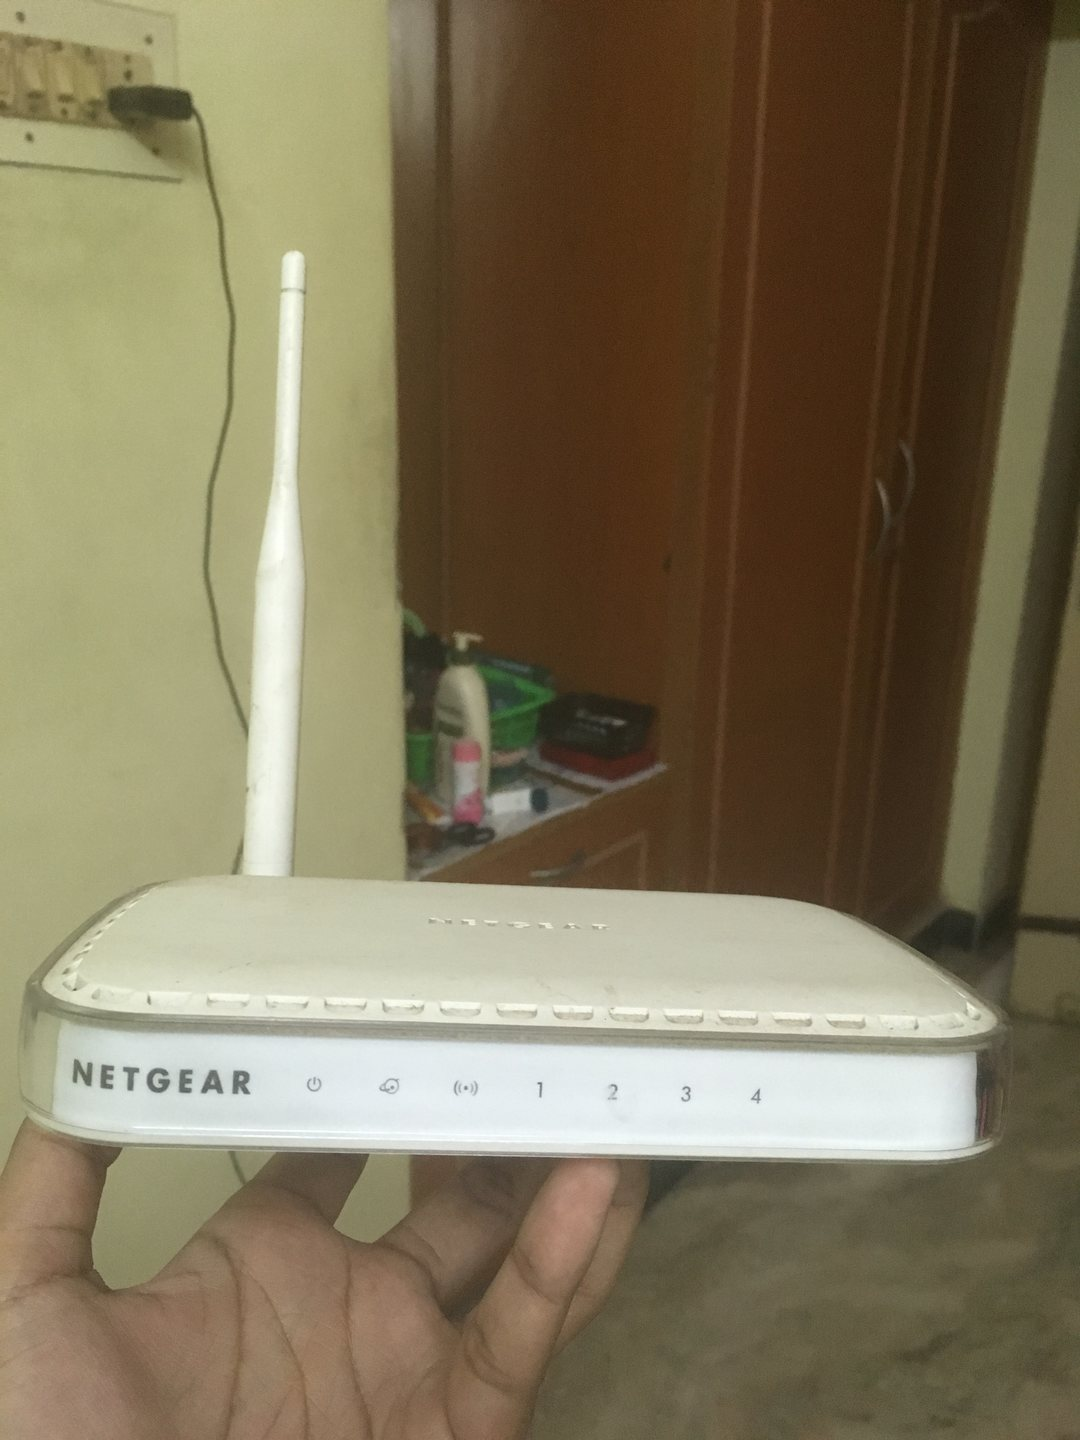NETGEAR: (65, 1049, 258, 1107)
modem: (20, 986, 1012, 1162)
